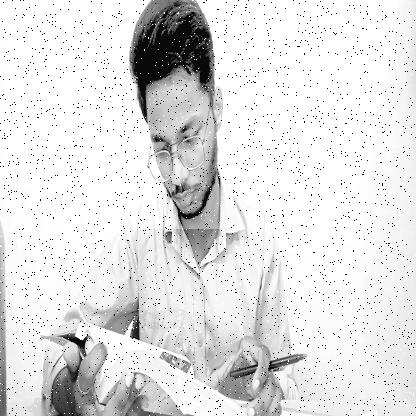Distracted: (131, 0, 222, 229)
